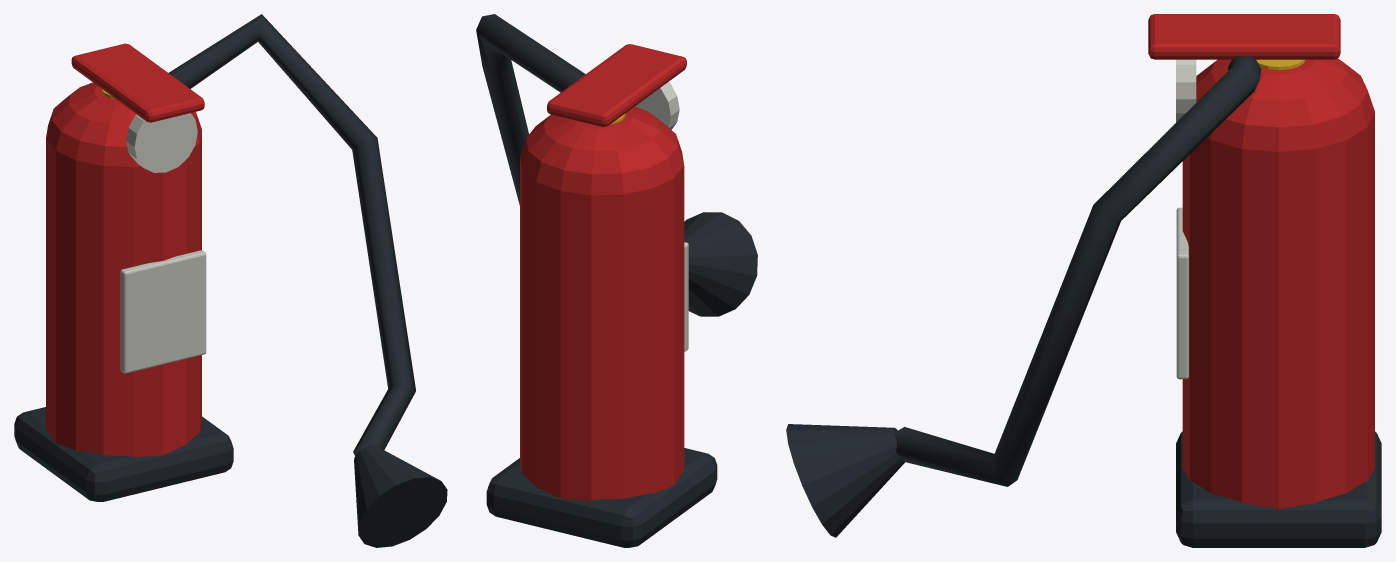
The model's file is fire-extinguisher.glb.
3 views of the same model, side by side, from view 1: azimuth 30°, elevation 25°; view 2: azimuth 150°, elevation 25°; view 3: azimuth 270°, elevation 25° (orthographic). The views are drawn at different scales.
Visible parts, largest first — view 1: pressure vessel; view 2: pressure vessel; view 3: pressure vessel.
Boxes of the visible parts, left/top/right/bottom form: pressure vessel: left=14, top=14, right=447, bottom=547; pressure vessel: left=476, top=14, right=757, bottom=547; pressure vessel: left=786, top=14, right=1381, bottom=547.
Size of the model in its own units: 0.5226 by 0.8346 by 0.8677.
